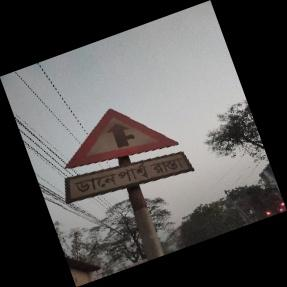Side-road-right: (65, 109, 192, 203)
